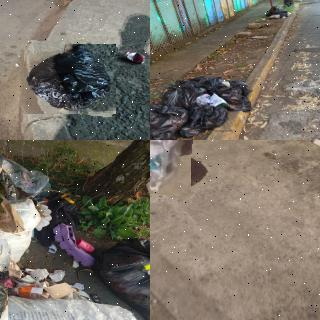Garbage: (23, 42, 117, 116), (96, 234, 150, 320), (150, 140, 192, 194), (150, 102, 187, 140), (186, 106, 228, 136), (163, 84, 207, 108), (273, 7, 289, 18), (282, 0, 293, 7)
